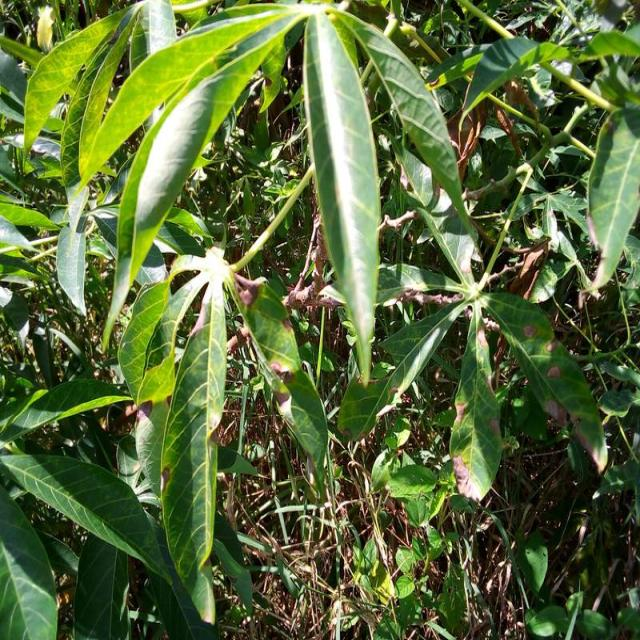cassava leaf: (301, 10, 381, 383), (158, 273, 228, 623)
